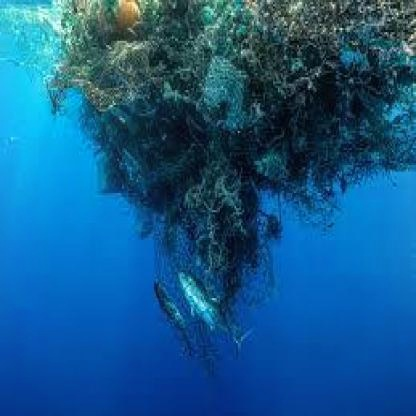net: (72, 2, 416, 264)
